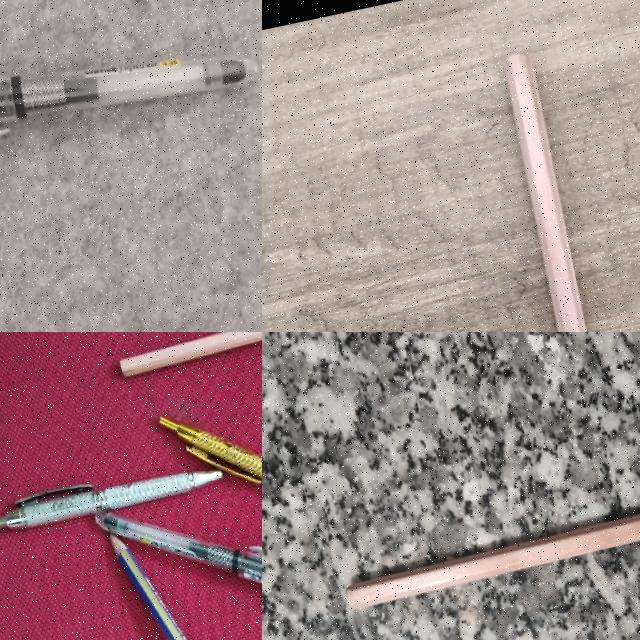pen: (0, 57, 258, 135), (96, 512, 262, 583)
pencil: (347, 516, 639, 608), (506, 54, 586, 331), (111, 534, 186, 640), (109, 332, 262, 378)
signature pen: (0, 454, 221, 535), (159, 418, 262, 483)
